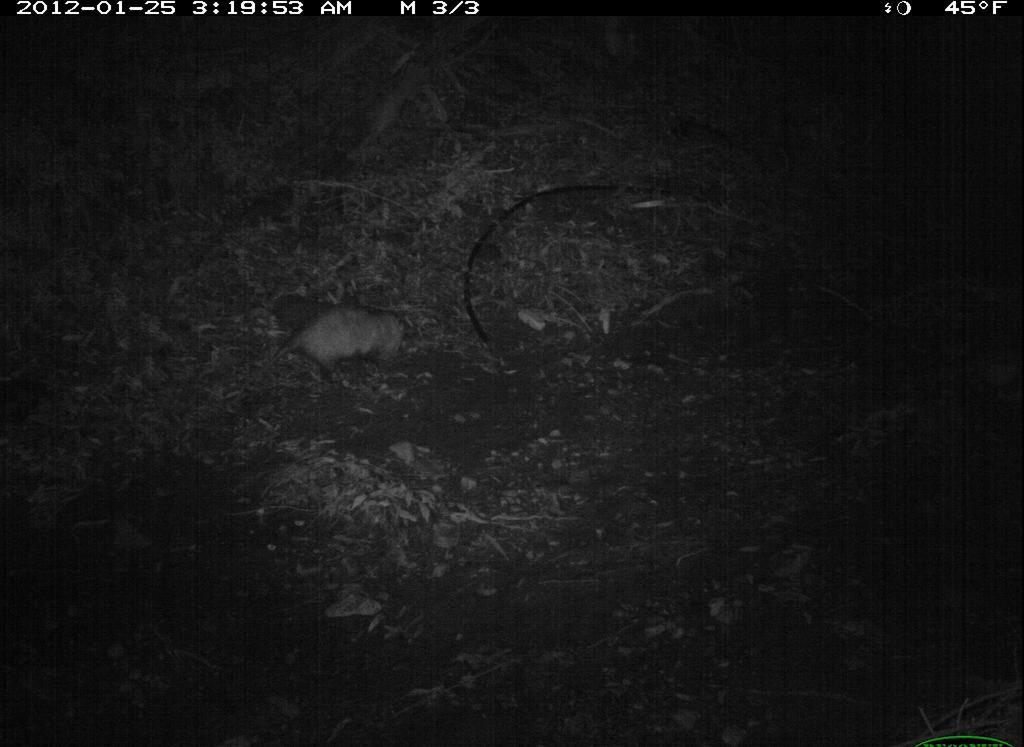opossum: (253, 300, 442, 378)
